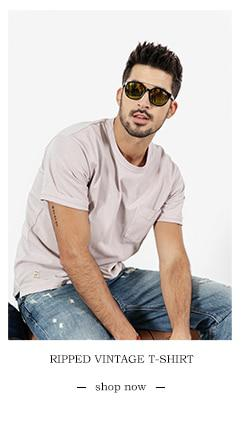pants: (29, 268, 232, 341)
